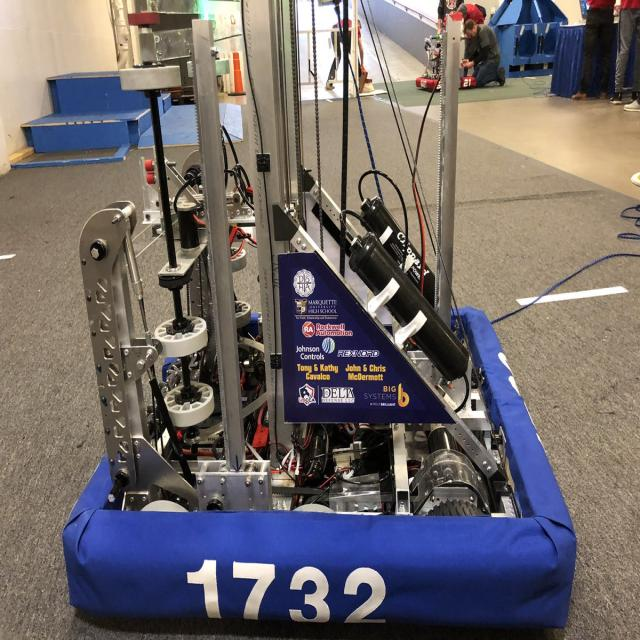robot: (64, 6, 574, 634)
